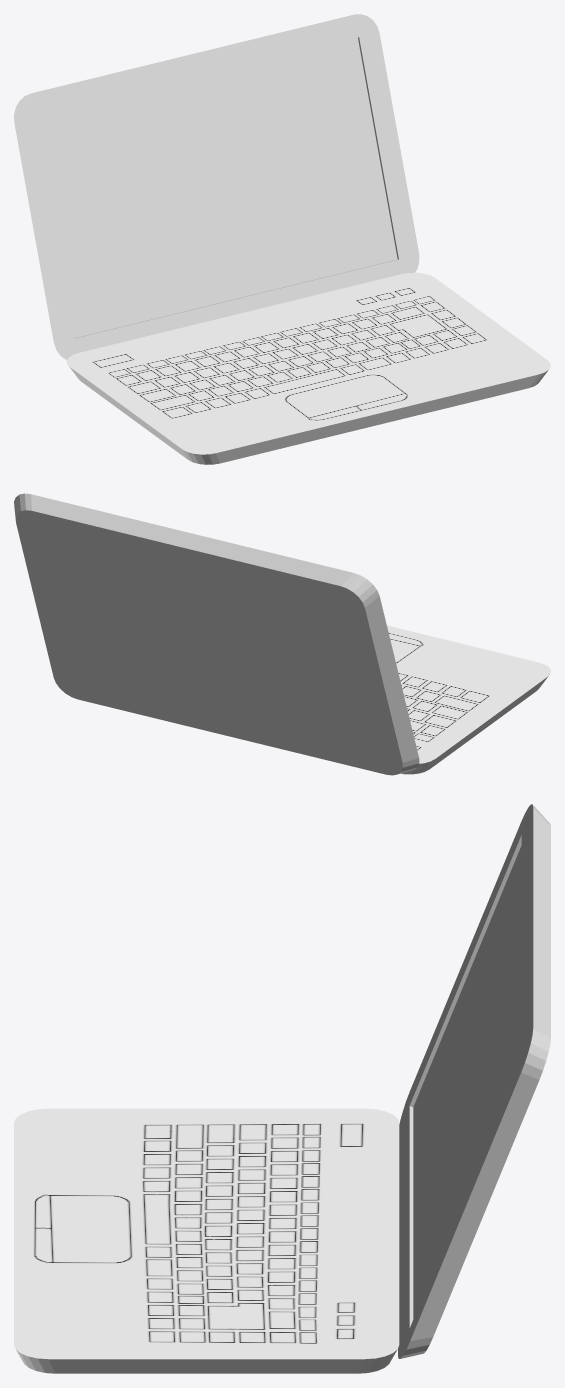
The picture shows the model from 3 angles, top to bottom: view 1: azimuth 30°, elevation 25°; view 2: azimuth 150°, elevation 25°; view 3: azimuth 270°, elevation 25°; orthographic projection. The views are drawn at different scales.
Visible parts, largest first — view 1: Obj_body_up_3, Obj_body_down_0; view 2: Obj_body_up_3, Obj_body_down_0; view 3: Obj_body_down_0, Obj_body_up_3.
Boxes of the visible parts, x1=… form: Obj_body_up_3: x1=14, y1=14, x2=419, y2=359; Obj_body_down_0: x1=66, y1=272, x2=550, y2=464; Obj_body_up_3: x1=14, y1=493, x2=419, y2=775; Obj_body_down_0: x1=387, y1=625, x2=550, y2=774; Obj_body_down_0: x1=14, y1=1108, x2=399, y2=1373; Obj_body_up_3: x1=398, y1=804, x2=550, y2=1358.
Size of the model in its own units: 0.4 by 0.25 by 0.3622.
2 materials, 1 textured.
